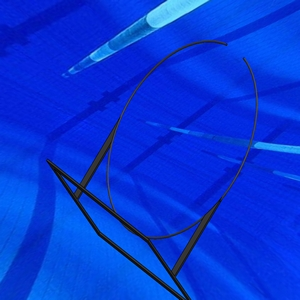circle: (46, 39, 260, 297)
